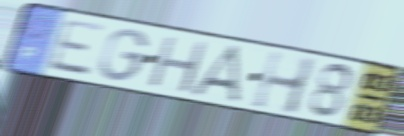8: (305, 62, 356, 120)
A: (186, 43, 245, 107)
E: (44, 17, 109, 78)
G: (98, 27, 151, 83)
H: (249, 47, 321, 118), (145, 33, 212, 96)
